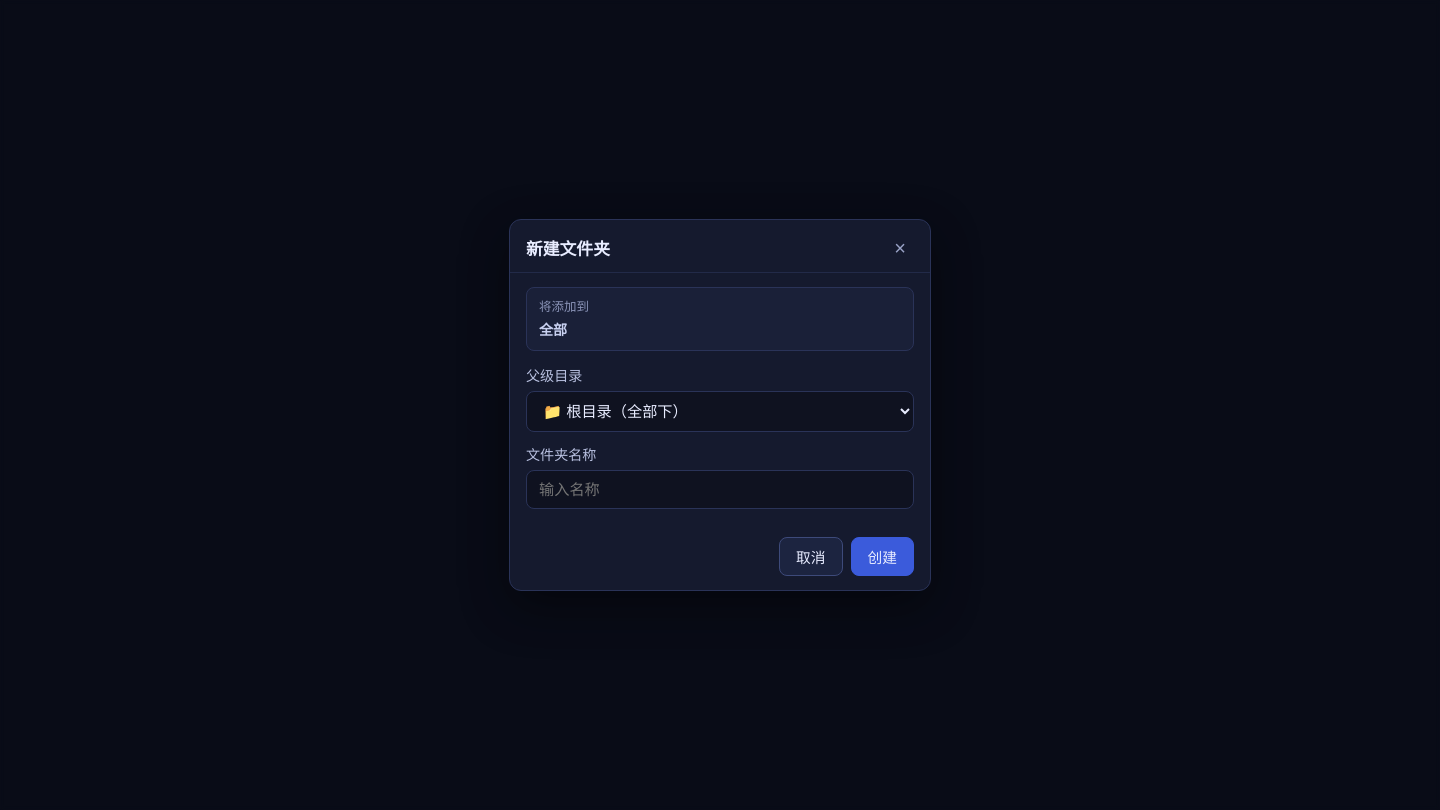
Test: CreateFolderDialog › 空名称提交显示错误
This screenshot has width=1440, height=810.
Click the button with class "cfd-btn--primary": point(882, 557) left=850, top=537, right=914, bottom=576
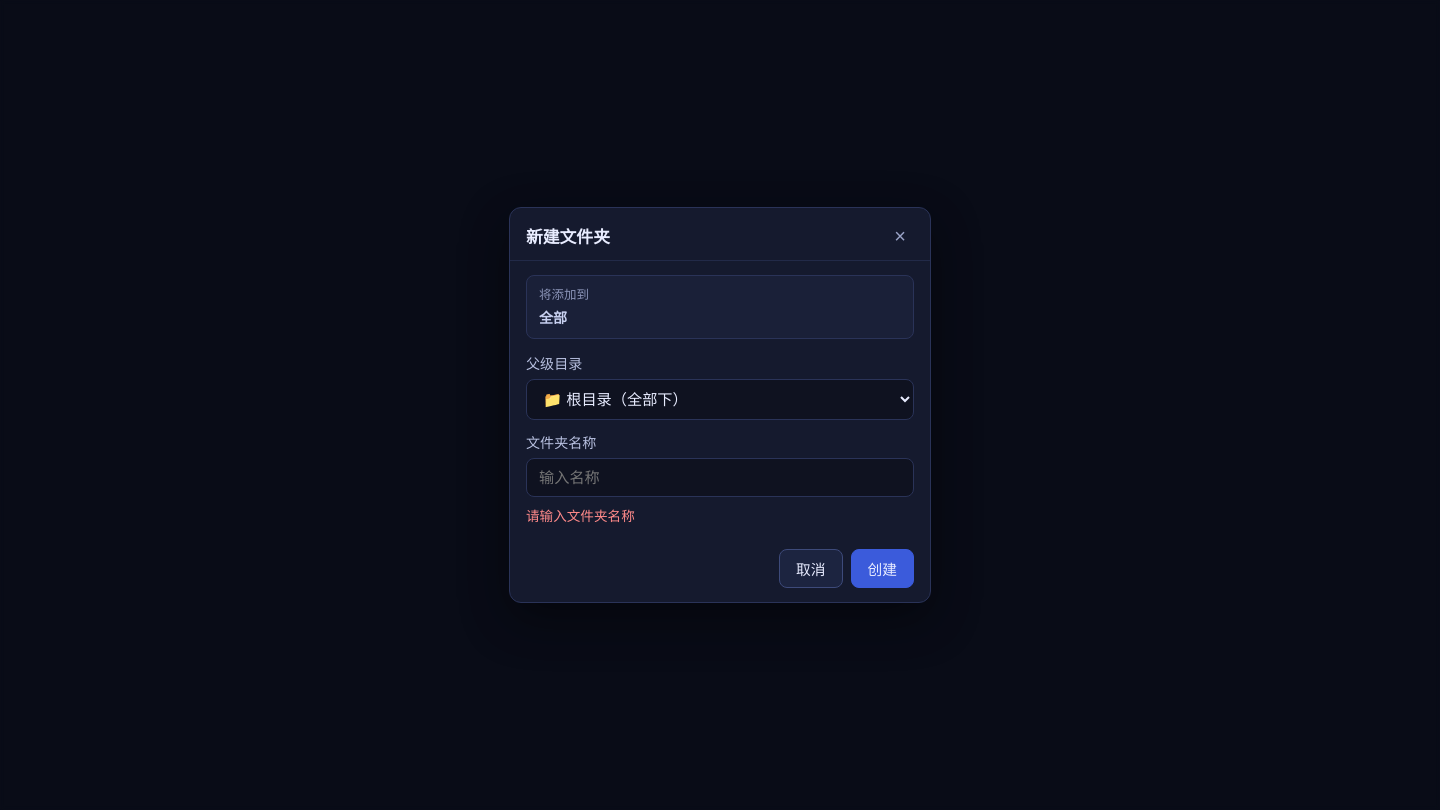
expect the text with class "cfd-error" reads "请输入文件夹名称": met, box left=526, top=506, right=635, bottom=525
